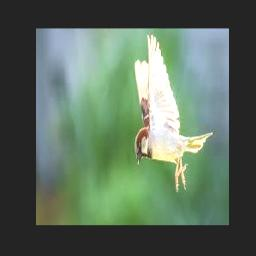Sparrow: (133, 35, 213, 191)
